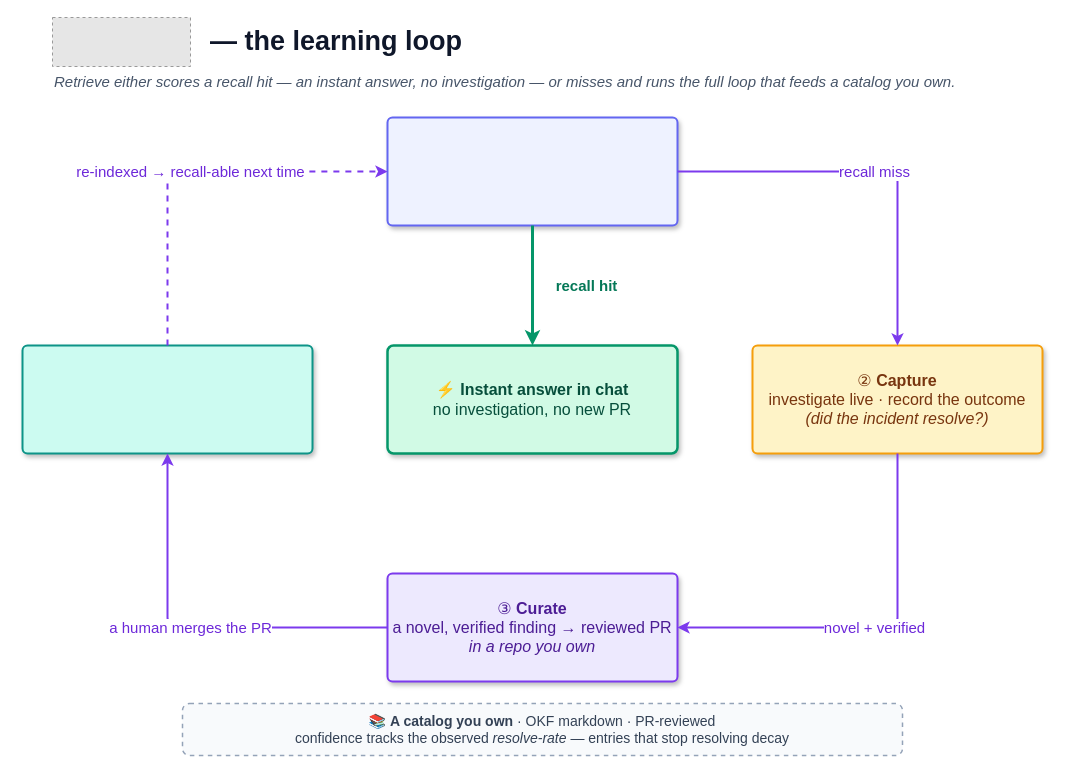
Some shapes in this 1066 by 774 pixel diagram are drawn without their labels. Grey dashed boxes stand in for pictures. Each missing label, with the centre of its shape:
① Retrieve recall a trusted past answer from the KB: [533,172]
④ Compound merged PR re-indexed → the catalog gets denser: [168,400]
